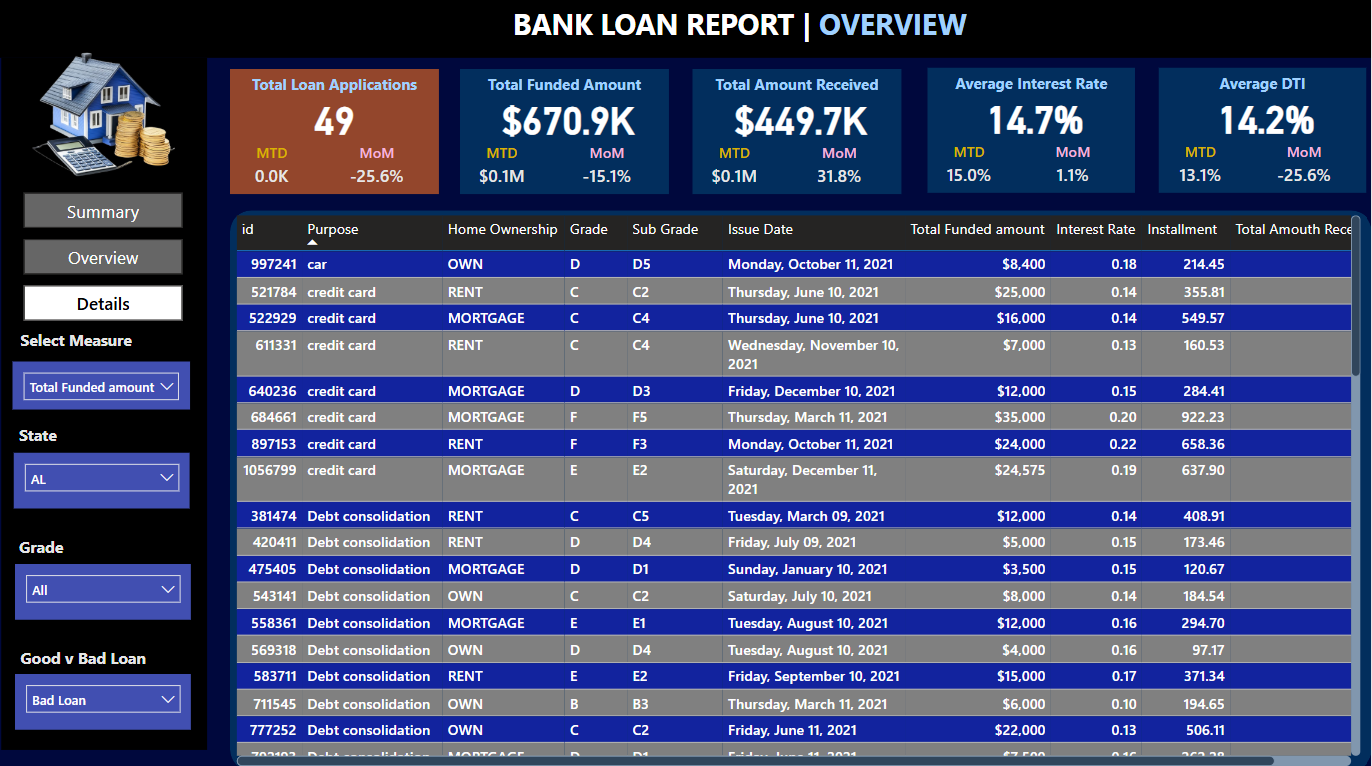

The dashboard page shown, as its layout file describes it:
{"tool":"powerbi","page":{"name":"Details","canvas":[1280,720],"ordinal":2},"visuals":[{"type":"shape","box":[865,64,193.5,116.6],"z":0,"group":"g4"},{"type":"shape","box":[1081,64,193.5,116.6],"z":0,"group":"g5"},{"type":"shape","box":[214.3,65.4,194.9,116.6],"z":0,"group":"g1"},{"type":"shape","box":[428.9,65.4,194.9,116.6],"z":0,"group":"g2"},{"type":"shape","box":[646.3,65.4,194.9,116.6],"z":0,"group":"g3"},{"type":"shape","box":[214.2,196.9,1065.8,523.1],"z":0},{"type":"shape","box":[1.4,54.3,192,645.6],"z":1000},{"type":"card","fields":{"Values":["bank_loan_data.Average Interest Rate"]},"box":[868.3,64.2,193.5,91.9],"z":1000,"group":"g4"},{"type":"card","fields":{"Values":["bank_loan_data.Average DTI"]},"box":[1084.3,64.2,193.5,91.9],"z":1000,"group":"g5"},{"type":"card","fields":{"Values":["bank_loan_data.Total loan application"]},"box":[214.3,65.4,194.9,91.9],"z":1000,"group":"g1"},{"type":"card","fields":{"Values":["bank_loan_data.Total Funded amount"]},"box":[432.2,65.6,194.9,91.9],"z":1000,"group":"g2"},{"type":"card","fields":{"Values":["bank_loan_data.Total Amouth Received"]},"box":[649.6,65.6,194.9,91.9],"z":1000,"group":"g3"},{"type":"shape","box":[0,0,1280.3,54.9],"z":2000},{"type":"textbox","box":[865,64,193.5,34.3],"z":2000,"group":"g4"},{"type":"textbox","box":[1081,64,193.5,34.3],"z":2000,"group":"g5"},{"type":"textbox","box":[214.3,65.4,194.9,34.3],"z":2000,"group":"g1"},{"type":"textbox","box":[428.9,65.4,194.9,34.3],"z":2000,"group":"g2"},{"type":"textbox","box":[646.3,65.4,194.9,34.3],"z":2000,"group":"g3"},{"type":"textbox","box":[473.4,0,470.7,64.5],"z":3000},{"type":"card","title":"MTD","fields":{"Values":["bank_loan_data.MTD Average Interest Rate"]},"box":[865,132.6,77.7,48],"z":3000,"group":"g4"},{"type":"card","title":"MTD","fields":{"Values":["bank_loan_data.MTD Average DTI"]},"box":[1081,132.6,77.7,48],"z":3000,"group":"g5"},{"type":"card","title":"MTD","fields":{"Values":["bank_loan_data.MTD Loan Application"]},"box":[214.3,134,78.2,48],"z":3000,"group":"g1"},{"type":"card","title":"MTD","fields":{"Values":["bank_loan_data.MTD Funded Amount"]},"box":[428.9,134,78.2,48],"z":3000,"group":"g2"},{"type":"card","title":"MTD","fields":{"Values":["bank_loan_data.MTD Total Amount received"]},"box":[646.3,134,78.2,48],"z":3000,"group":"g3"},{"type":"group","id":"g1","title":"Group 1","box":[214.3,65.4,194.8,116.9],"z":4000},{"type":"card","title":"MoM","fields":{"Values":["bank_loan_data.MoM Average Interest rate"]},"box":[961.8,132.6,77.7,48],"z":4000,"group":"g4"},{"type":"card","title":"MoM","fields":{"Values":["bank_loan_data.MoM Average DTI"]},"box":[1177.8,132.6,77.7,48],"z":4000,"group":"g5"},{"type":"card","title":"MoM","fields":{"Values":["bank_loan_data.MoM Loan Application"]},"box":[311.7,134,78.2,48],"z":4000,"group":"g1"},{"type":"card","title":"MoM","fields":{"Values":["bank_loan_data.MoM Total Funded Amount"]},"box":[526.3,134,78.2,48],"z":4000,"group":"g2"},{"type":"card","title":"MoM","fields":{"Values":["bank_loan_data.MoM Total Amount received"]},"box":[743.7,134,78.2,48],"z":4000,"group":"g3"},{"type":"group","id":"g2","title":"Group 1","box":[428.9,65.4,197.6,116.9],"z":5000},{"type":"group","id":"g3","title":"Group 1","box":[646.3,65.4,199,116.9],"z":6000},{"type":"group","id":"g4","title":"Group 1","box":[865,64,196.2,116.9],"z":7000},{"type":"group","id":"g5","title":"Group 1","box":[1081,64,196.2,116.9],"z":8000},{"type":"slicer","fields":{"Values":["bank_loan_data.address_state"]},"box":[13.1,423.3,164.4,52.4],"z":9000},{"type":"textbox","box":[13.1,391.3,65.5,30.5],"z":10000},{"type":"slicer","fields":{"Values":["bank_loan_data.grade"]},"box":[14.5,526.5,164.4,52.4],"z":11000},{"type":"textbox","box":[13.1,496,65.5,30.5],"z":12000},{"type":"slicer","fields":{"Values":["bank_loan_data.Good Vs Bad Loan"]},"box":[14.5,629.8,164.4,52.4],"z":13000},{"type":"textbox","box":[13.5,599.4,155.1,30.8],"z":14000},{"type":"slicer","fields":{"Values":["Select Measure.Select Measure"]},"box":[11.1,338.1,165.6,44.5],"z":15000},{"type":"textbox","box":[13.9,303.3,123.8,30.6],"z":16000},{"type":"tableEx","fields":{"Values":["bank_loan_data.id","bank_loan_data.purpose","bank_loan_data.home_ownership","bank_loan_data.grade","bank_loan_data.sub_grade","bank_loan_data.issue_date","bank_loan_data.Total Funded amount","Sum(bank_loan_data.int_rate)","Sum(bank_loan_data.installment)","bank_loan_data.Total Amouth Received"]},"box":[214.2,196.9,1059.7,523.1],"z":17000},{"type":"pageNavigator","box":[22.2,180.9,148.9,121.8],"z":17001},{"type":"image","box":[1.2,27.1,192,150.2],"z":17002}]}

Visuals, with their boxes in screenshot pixels (x1, y1, x2, y2), scaled from the page's 1280x720 canvas onto the 1372x766 screenshot:
shape: 927 68 1135 192
shape: 1159 68 1366 192
shape: 230 70 439 194
shape: 460 70 669 194
shape: 693 70 902 194
shape: 230 209 1371 765
shape: 2 58 207 745
card - bank_loan_data.Average Interest Rate: 931 68 1138 166
card - bank_loan_data.Average DTI: 1162 68 1370 166
card - bank_loan_data.Total loan application: 230 70 439 167
card - bank_loan_data.Total Funded amount: 463 70 672 168
card - bank_loan_data.Total Amouth Received: 696 70 905 168
shape: 0 0 1371 58
textbox: 927 68 1135 105
textbox: 1159 68 1366 105
textbox: 230 70 439 106
textbox: 460 70 669 106
textbox: 693 70 902 106
textbox: 507 0 1012 69
"MTD" card: 927 141 1010 192
"MTD" card: 1159 141 1242 192
"MTD" card: 230 143 314 194
"MTD" card: 460 143 544 194
"MTD" card: 693 143 777 194
"Group 1" group: 230 70 439 194
"MoM" card: 1031 141 1114 192
"MoM" card: 1262 141 1346 192
"MoM" card: 334 143 418 194
"MoM" card: 564 143 648 194
"MoM" card: 797 143 881 194
"Group 1" group: 460 70 672 194
"Group 1" group: 693 70 906 194
"Group 1" group: 927 68 1137 192
"Group 1" group: 1159 68 1369 192
slicer - bank_loan_data.address_state: 14 450 190 506
textbox: 14 416 84 449
slicer - bank_loan_data.grade: 16 560 192 616
textbox: 14 528 84 560
slicer - bank_loan_data.Good Vs Bad Loan: 16 670 192 726
textbox: 14 638 181 670
slicer - Select Measure.Select Measure: 12 360 189 407
textbox: 15 323 148 355
tableEx - bank_loan_data.id x bank_loan_data.purpose: 230 209 1365 765
pageNavigator: 24 192 183 322
image: 1 29 207 189
